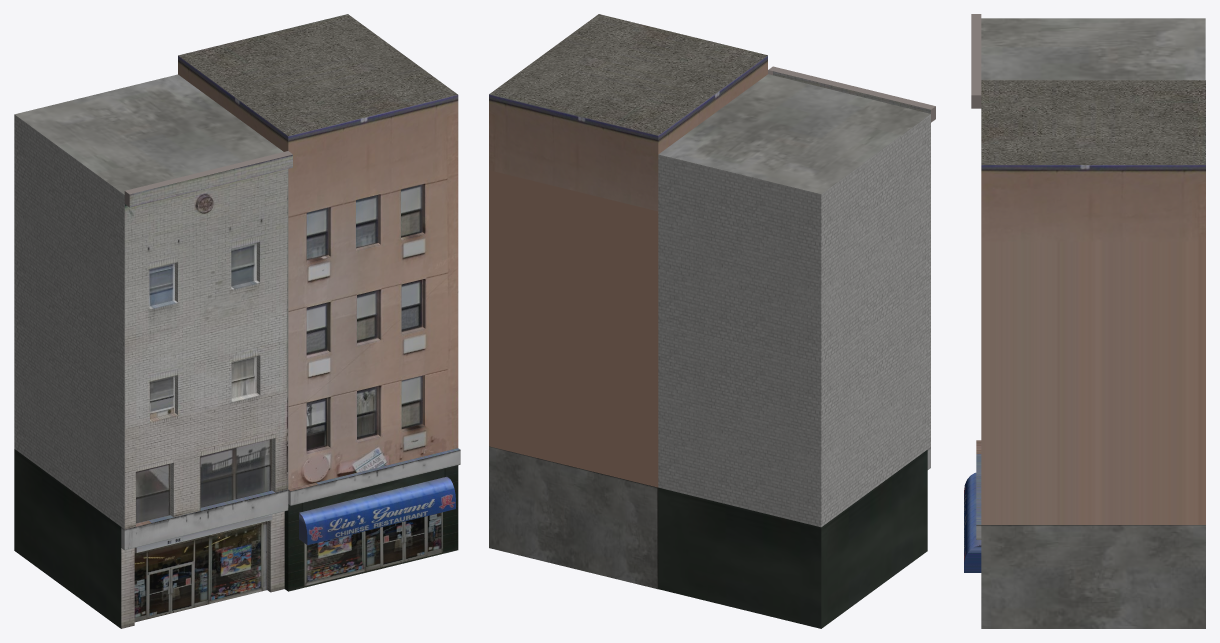
The model's file is NYCBronxBuildings.fbx.
3 views of the same model, side by side, from view 1: azimuth 30°, elevation 25°; view 2: azimuth 150°, elevation 25°; view 3: azimuth 270°, elevation 25° (orthographic). The views are drawn at different scales.
Parts seen in each view (by area): view 1: mainer; view 2: mainer; view 3: mainer.
Part boxes in pixels (bbox=[...]): mainer: bbox=[14, 14, 460, 628]; mainer: bbox=[489, 14, 935, 628]; mainer: bbox=[964, 14, 1205, 628].
Bounding box in the file's own units: 6838 × 8922 × 4212.
Materials: 1 (1 with a texture image).
